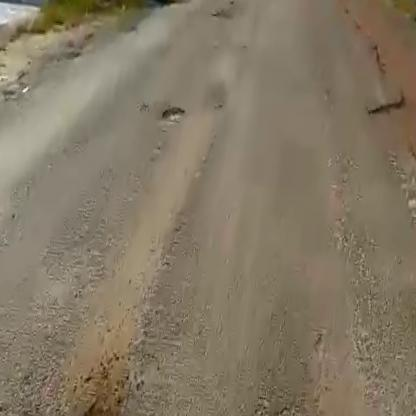pothole: (156, 101, 189, 127)
